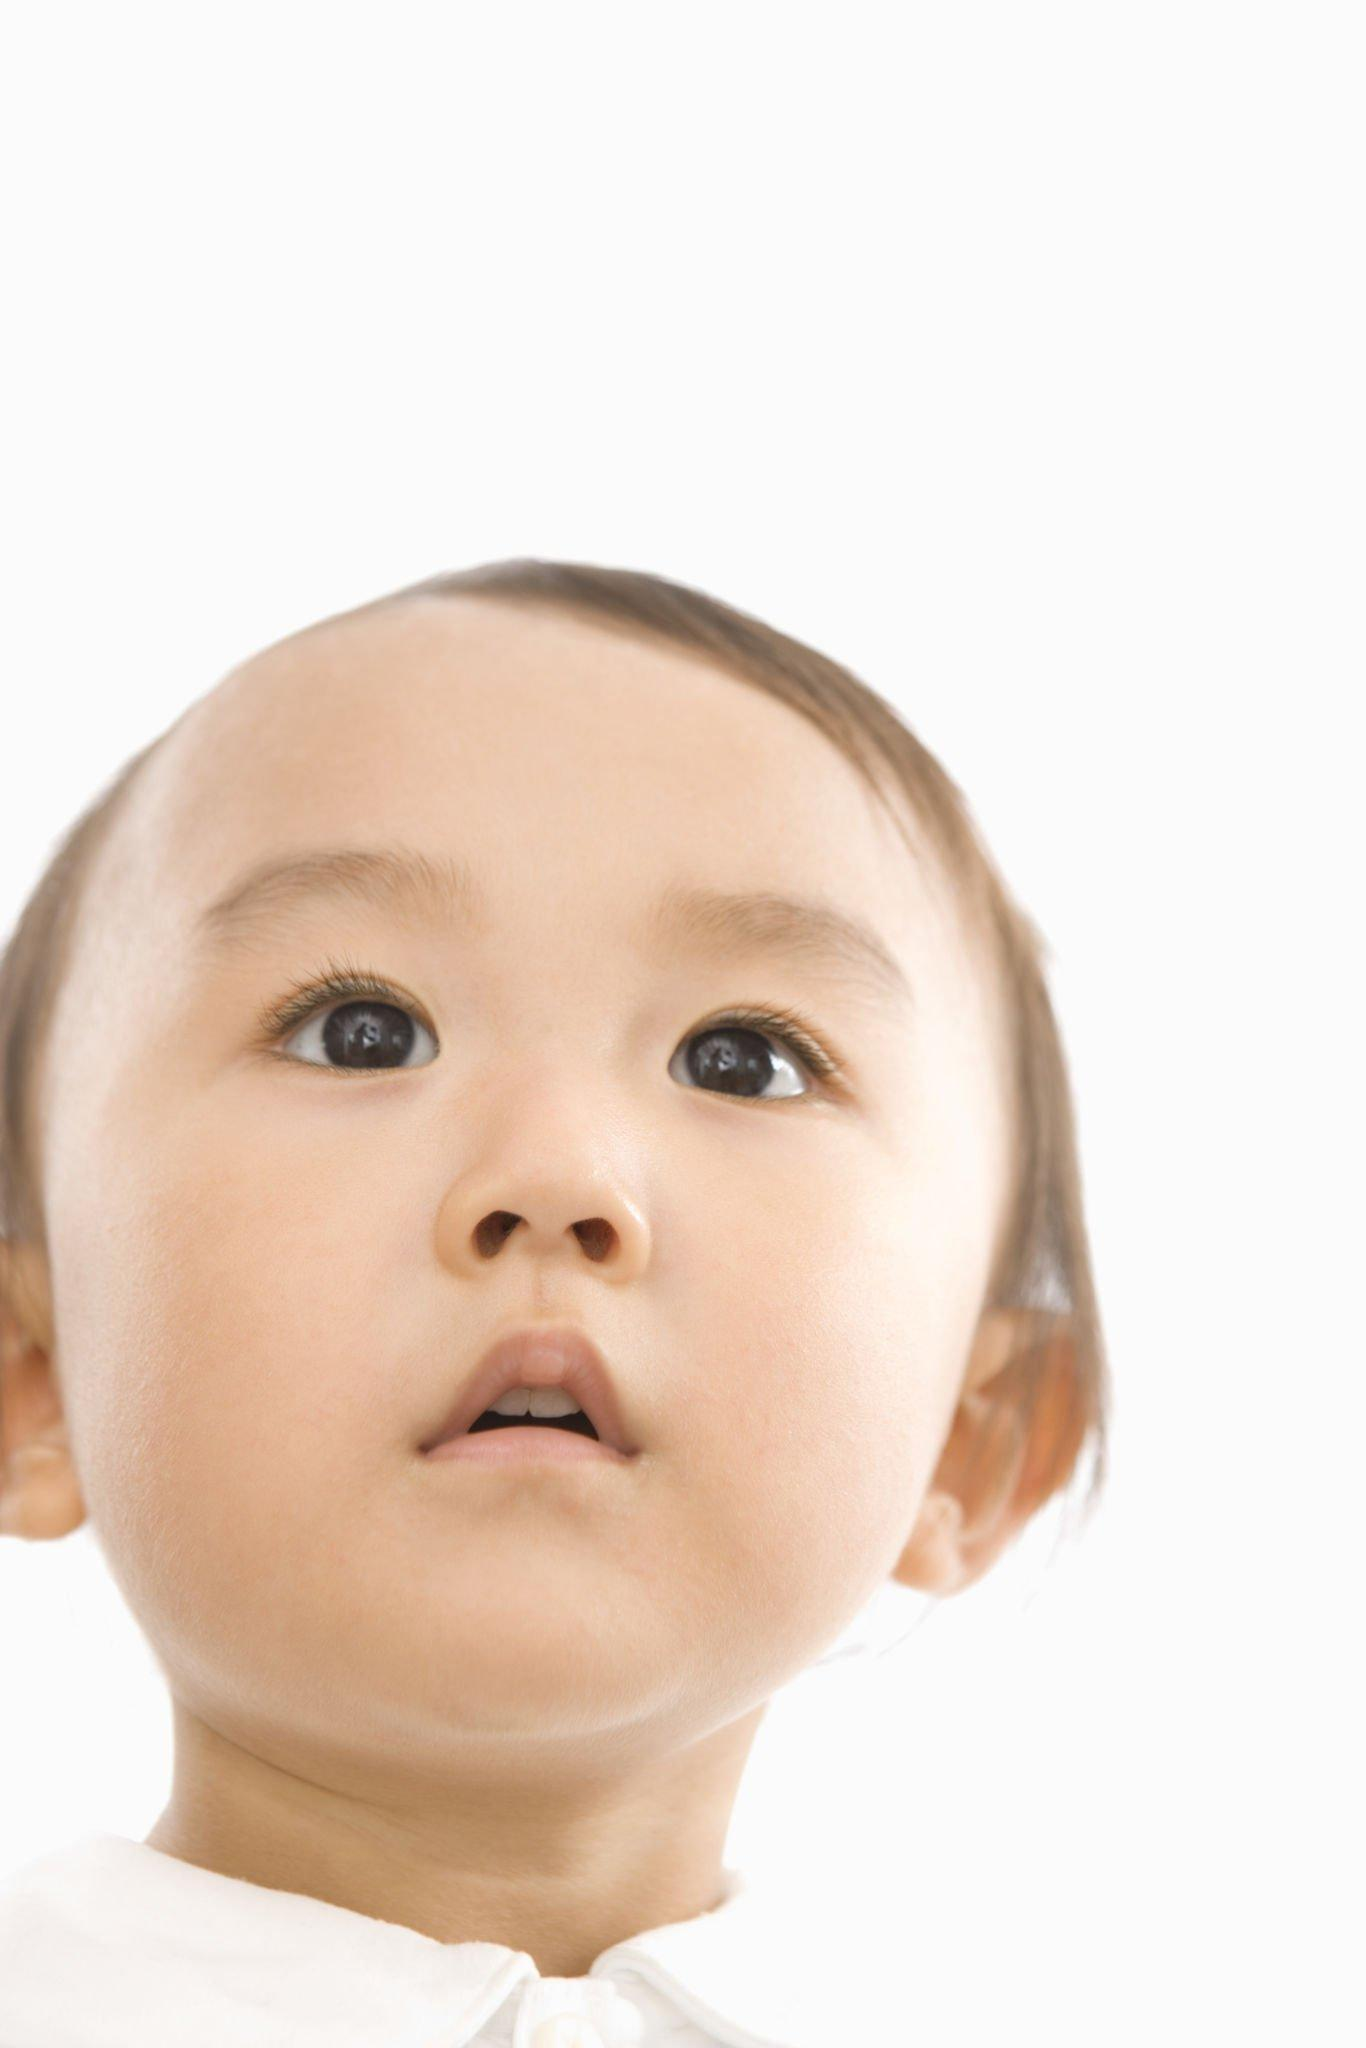Healthy: (0, 488, 1175, 1856)
